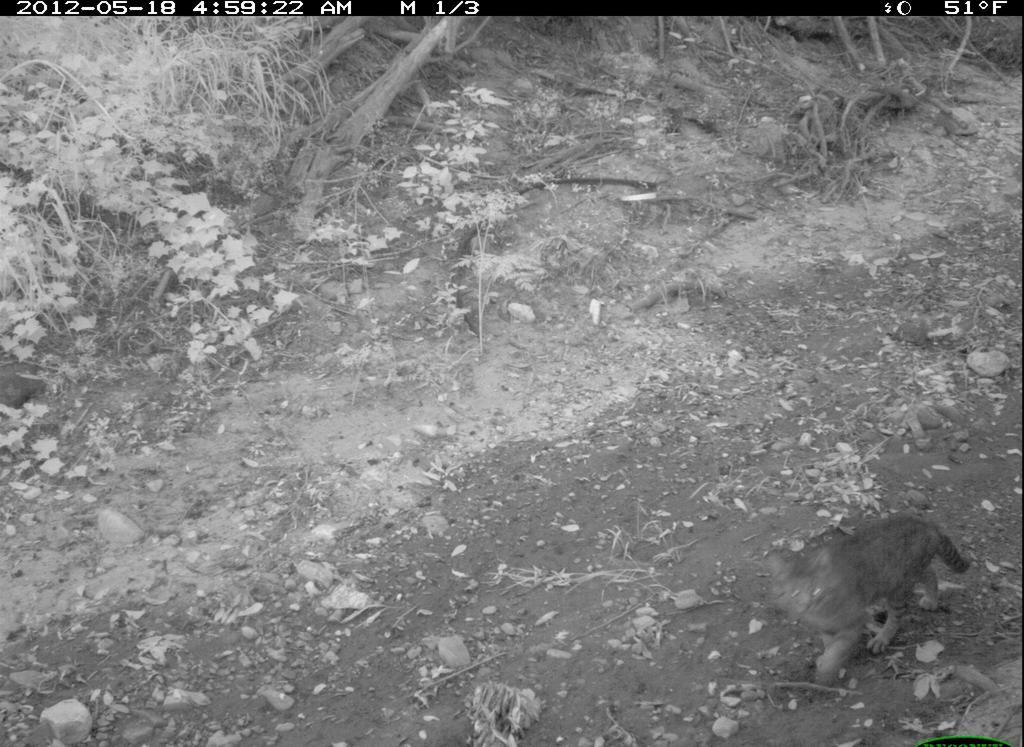cat: (758, 515, 981, 694)
